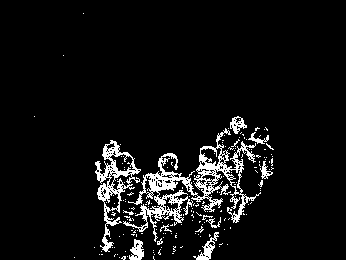person: (98, 155, 145, 259), (148, 150, 190, 256), (190, 144, 227, 260), (216, 115, 248, 220), (245, 125, 272, 204), (94, 137, 120, 186)
